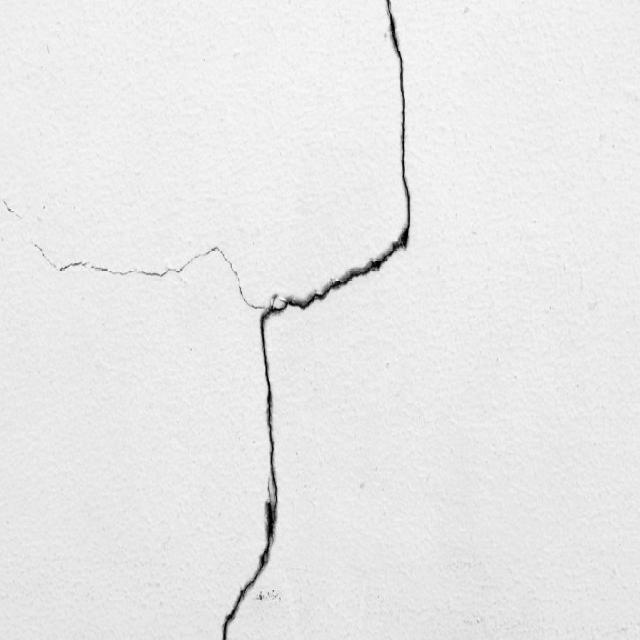Rachadura: (0, 0, 415, 639)
